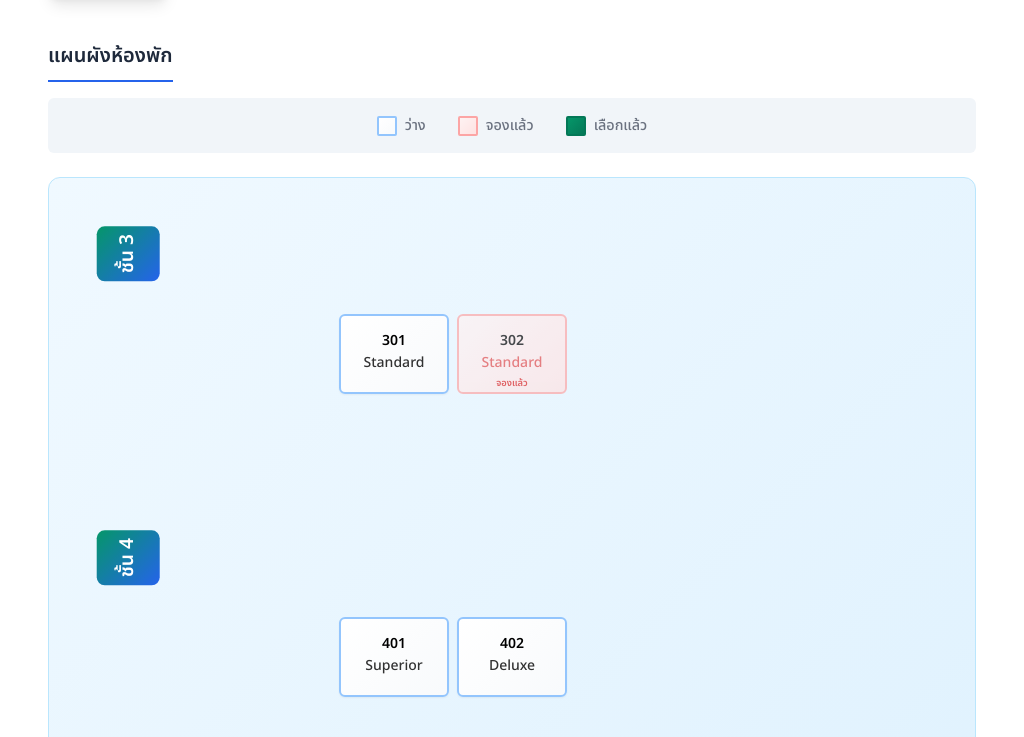
Test case: RoomSelection Component › Room Selection › allows selecting available rooms
The width and height of the screenshot is (1024, 737).
(page scrolled)
Expected: the text "301" is shown, top-left (382, 334), bottom-right (406, 348)
What coordinates should you click on to do the following:
click the button "301 Standard"
I would click on:
 (394, 354)
Its box is top-left (339, 314), bottom-right (449, 394).
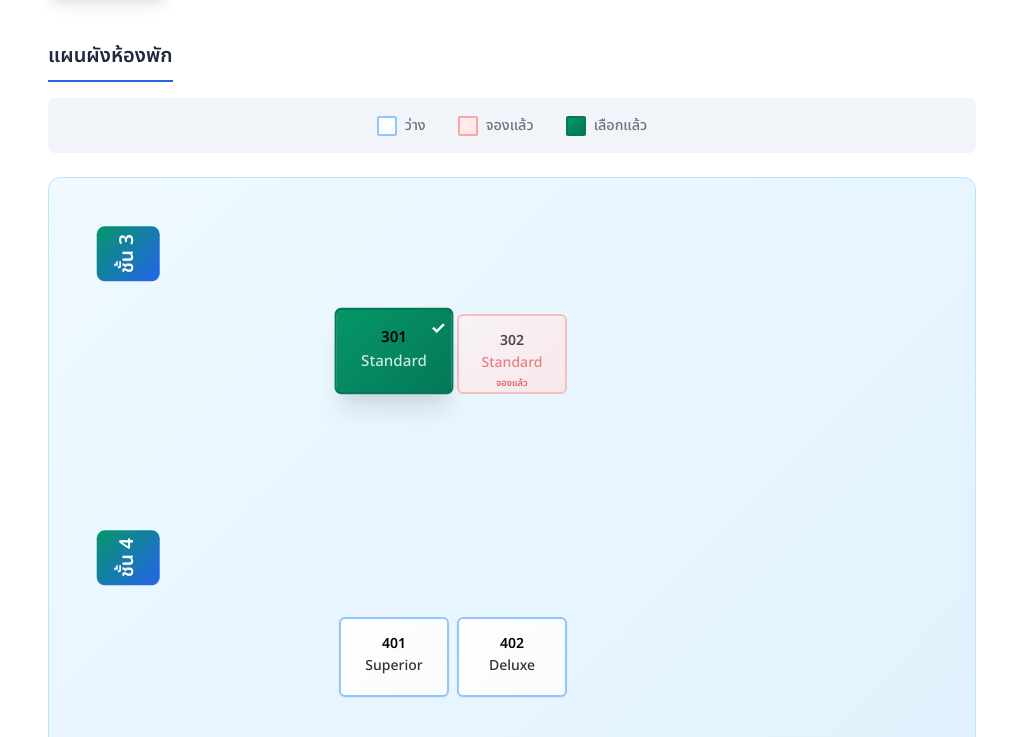
Now the text "✓" is shown, box top-left (431, 315), bottom-right (446, 341)
